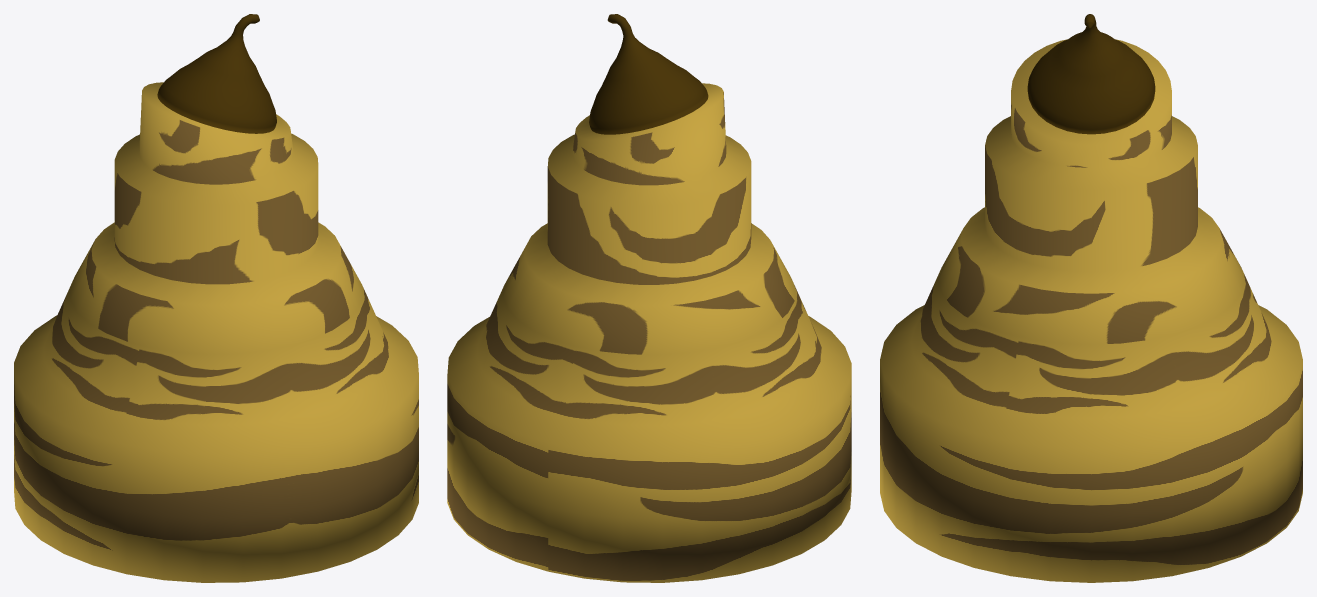
File: Cinnamon Tower.fbx
3 renders of one model, left to right at view 1: azimuth 30°, elevation 25°; view 2: azimuth 150°, elevation 25°; view 3: azimuth 270°, elevation 25°, orthographic. The views are drawn at different scales.
Visible parts, largest first — view 1: Cylinder; view 2: Cylinder; view 3: Cylinder.
Boxes of the visible parts, x1=… form: Cylinder: x1=14, y1=14, x2=418, y2=582; Cylinder: x1=447, y1=14, x2=851, y2=582; Cylinder: x1=880, y1=14, x2=1302, y2=582.
Bounding box in the file's own units: 463 × 598 × 463.
